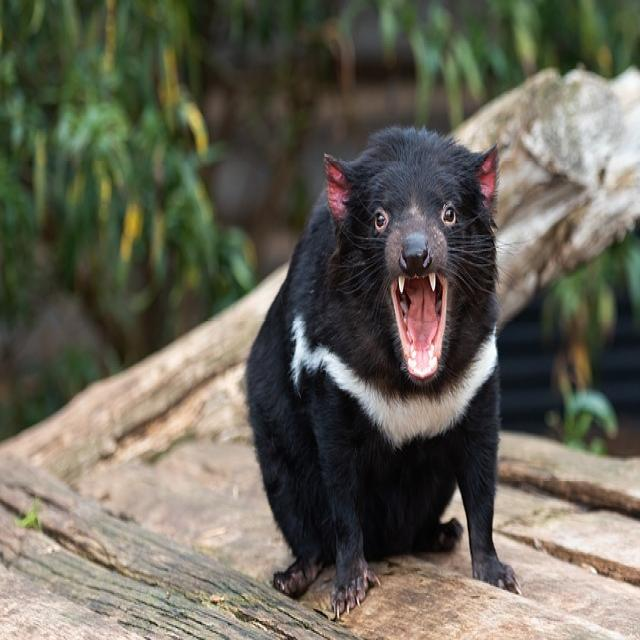Carnivorous: (245, 126, 516, 617)
